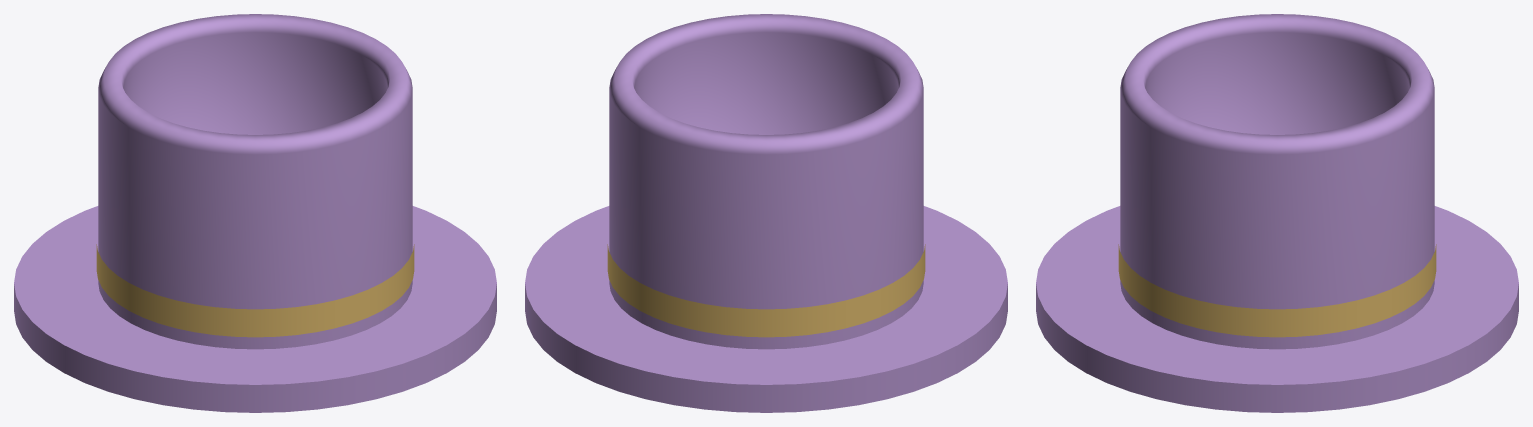
The model's file is magic-hat.glb.
3 renders of one model, left to right at view 1: azimuth 30°, elevation 25°; view 2: azimuth 150°, elevation 25°; view 3: azimuth 270°, elevation 25°, orthographic.
Parts seen in each view (by area): view 1: Hat_hollow_crown, Hat_brim, Hat_band; view 2: Hat_hollow_crown, Hat_brim, Hat_band; view 3: Hat_hollow_crown, Hat_brim, Hat_band.
Part boxes in pixels (box(x1,y1,x2,y2)): Hat_hollow_crown: box(98, 14, 412, 349); Hat_brim: box(14, 206, 496, 412); Hat_band: box(96, 244, 414, 337); Hat_hollow_crown: box(609, 14, 923, 349); Hat_brim: box(525, 206, 1007, 412); Hat_band: box(607, 244, 925, 337); Hat_hollow_crown: box(1120, 14, 1434, 349); Hat_brim: box(1036, 206, 1518, 412); Hat_band: box(1118, 244, 1436, 337).
Bounding box in the file's own units: 0.86 × 0.4575 × 0.86.
